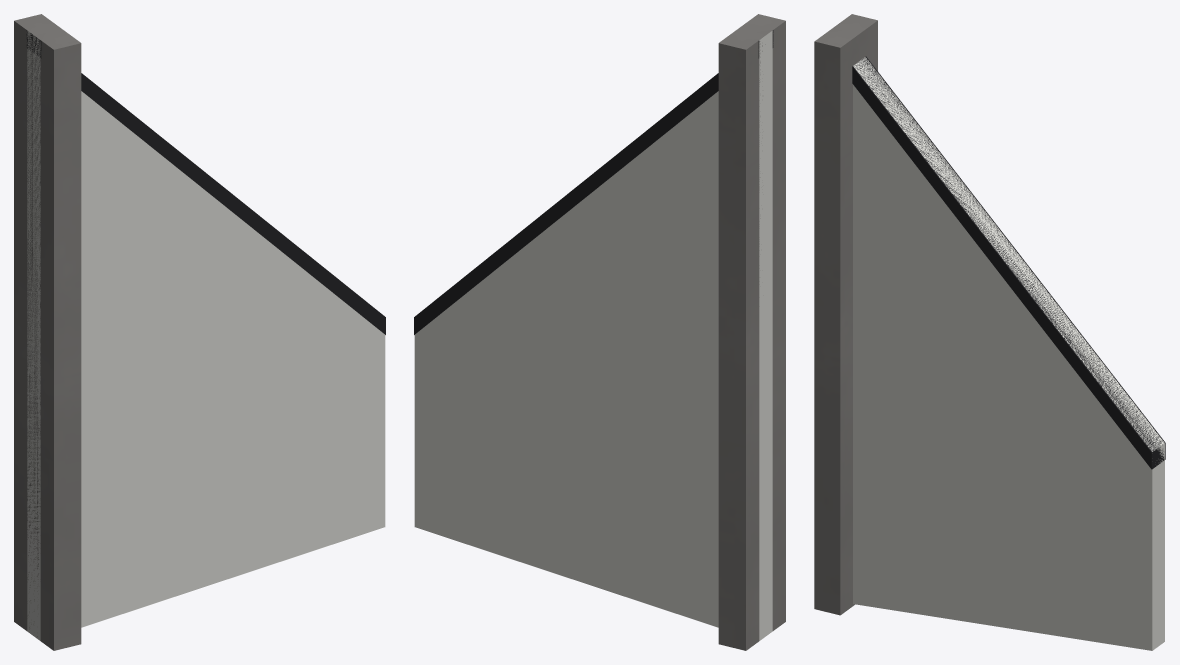
The model's file is aero06_rocket_fin_s.glb.
3 views of the same model, side by side, from view 1: azimuth 30°, elevation 25°; view 2: azimuth 150°, elevation 25°; view 3: azimuth 330°, elevation 25° (orthographic). The views are drawn at different scales.
Parts seen in each view (by area): view 1: fin, root_fairing, fin_le; view 2: fin, root_fairing, fin_le; view 3: fin, root_fairing, fin_le.
Part boxes in pixels (left/top/right/bottom): fin: left=27, top=31, right=385, bottom=640; root_fairing: left=14, top=14, right=81, bottom=650; fin_le: left=26, top=30, right=385, bottom=334; fin: left=414, top=30, right=772, bottom=640; root_fairing: left=718, top=14, right=785, bottom=650; fin_le: left=414, top=30, right=773, bottom=334; fin: left=853, top=57, right=1164, bottom=650; root_fairing: left=814, top=14, right=877, bottom=615; fin_le: left=852, top=56, right=1165, bottom=469.
Size of the model in its own units: 0.6 by 1 by 0.12.
Materials: 3 (1 with a texture image).
